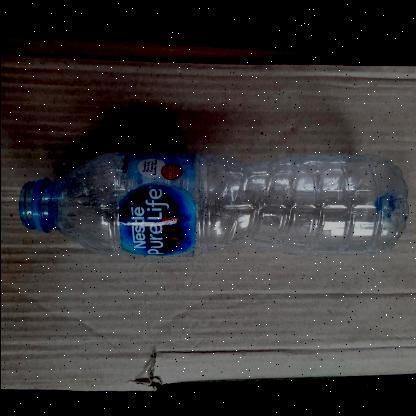Plastic Bottle: (16, 150, 408, 256)
